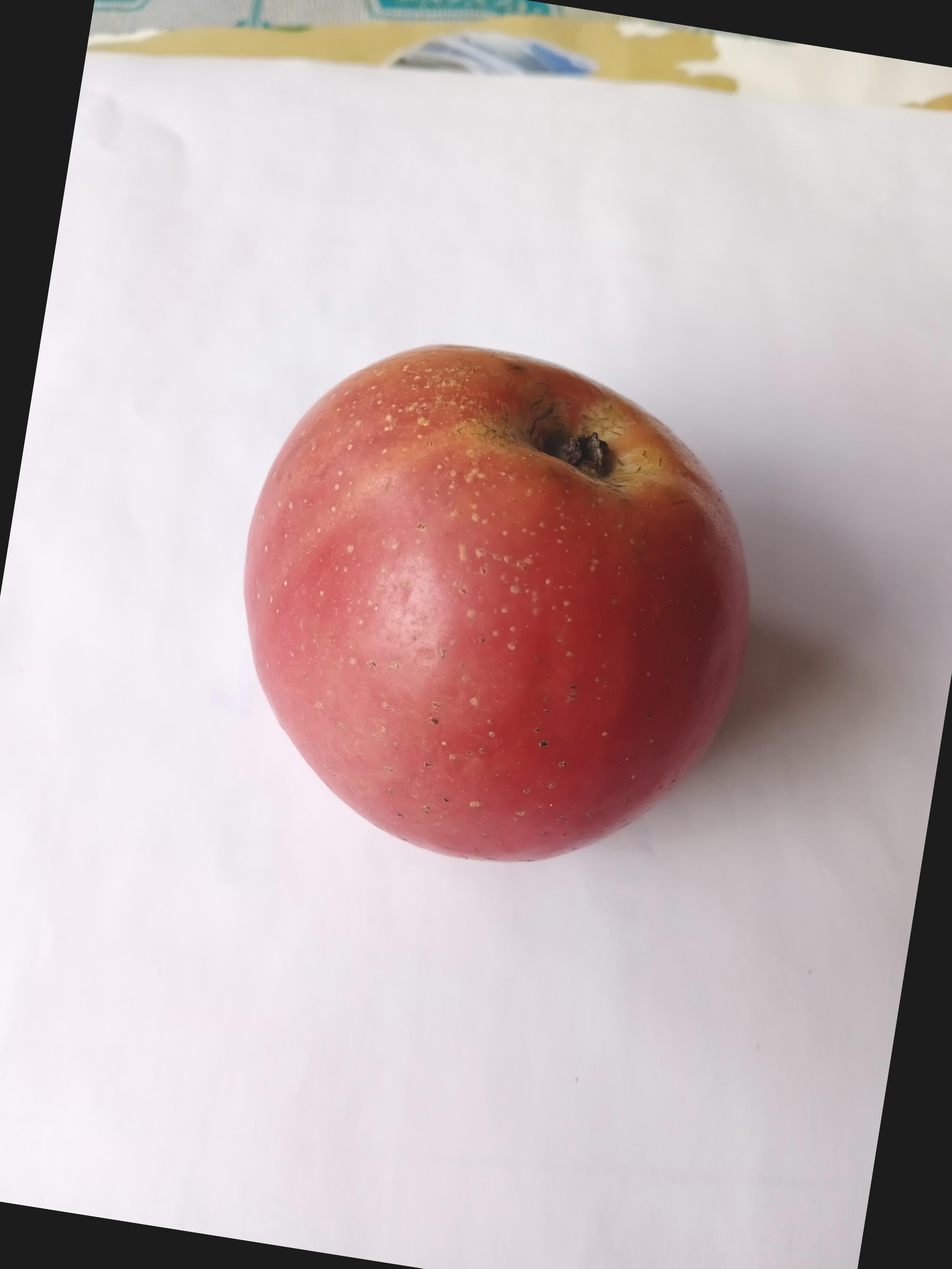Apple Ripe: (304, 201, 940, 831)
